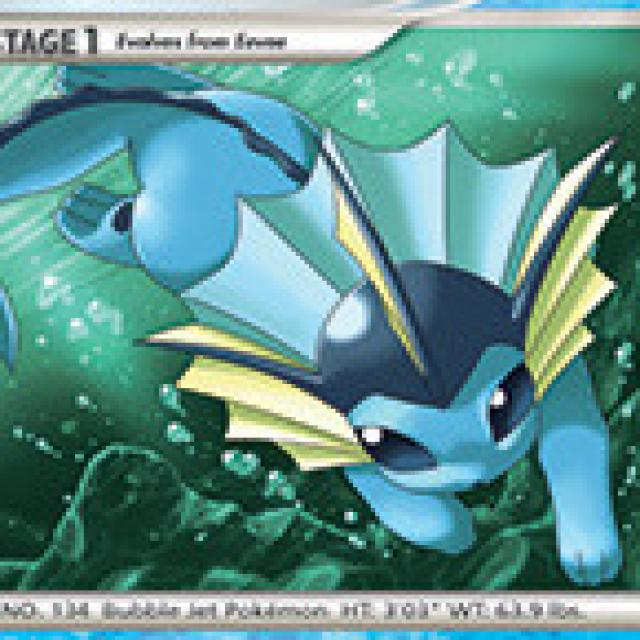Vaporeon: (117, 76, 626, 538)
